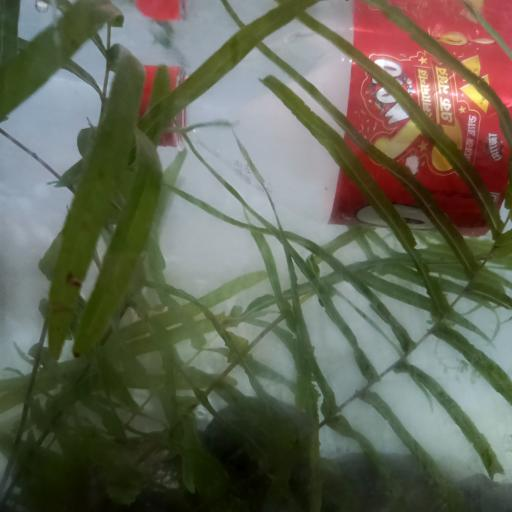bottle_cap: (134, 65, 178, 140)
plastic_cup: (120, 25, 512, 236)
